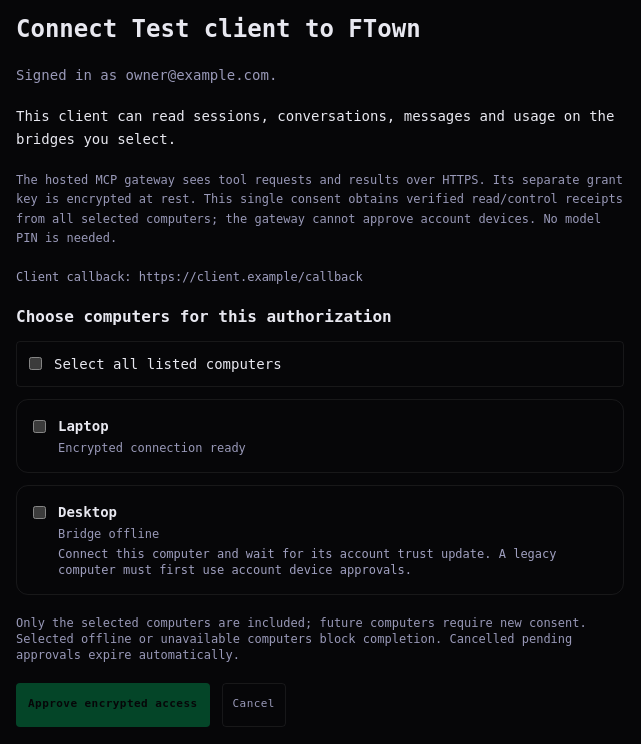
encrypted MCP consent › blocks selected unpaired/offline computers and never approves anything implicitly
This screenshot has width=641, height=744.
Expected: the button "Approve encrypted access" is disabled, [16, 682, 210, 726]
Click the checkbox labelled "Select all listed computers".
click(36, 364)  # box [29, 357, 42, 370]
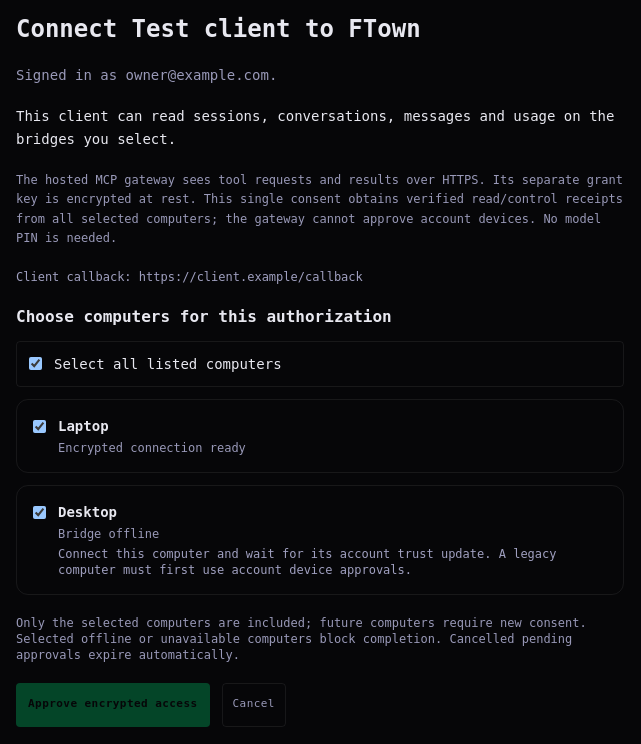
Expected: the button "Approve encrypted access" is disabled, [16, 682, 210, 726]
Expected: the text "Selected offline or unavailable computers block completion" is shown, [16, 616, 587, 662]
Click the checkbox labelled "Desktop".
click(40, 512)  # box [33, 506, 46, 518]
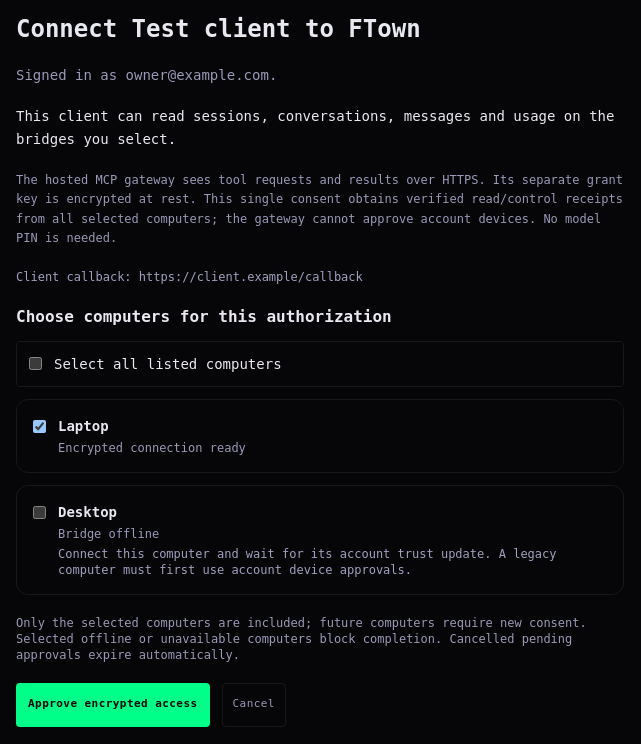
Expected: the button "Approve encrypted access" is enabled, [16, 682, 210, 726]
